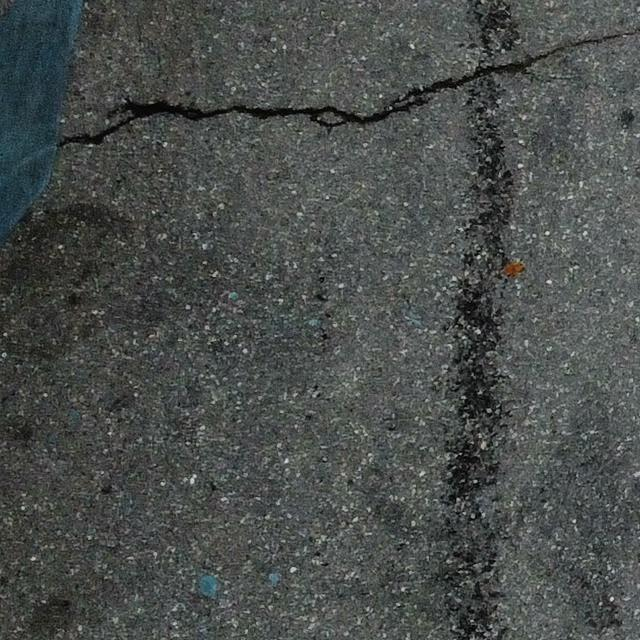TransverseCrack: (54, 32, 632, 147)
